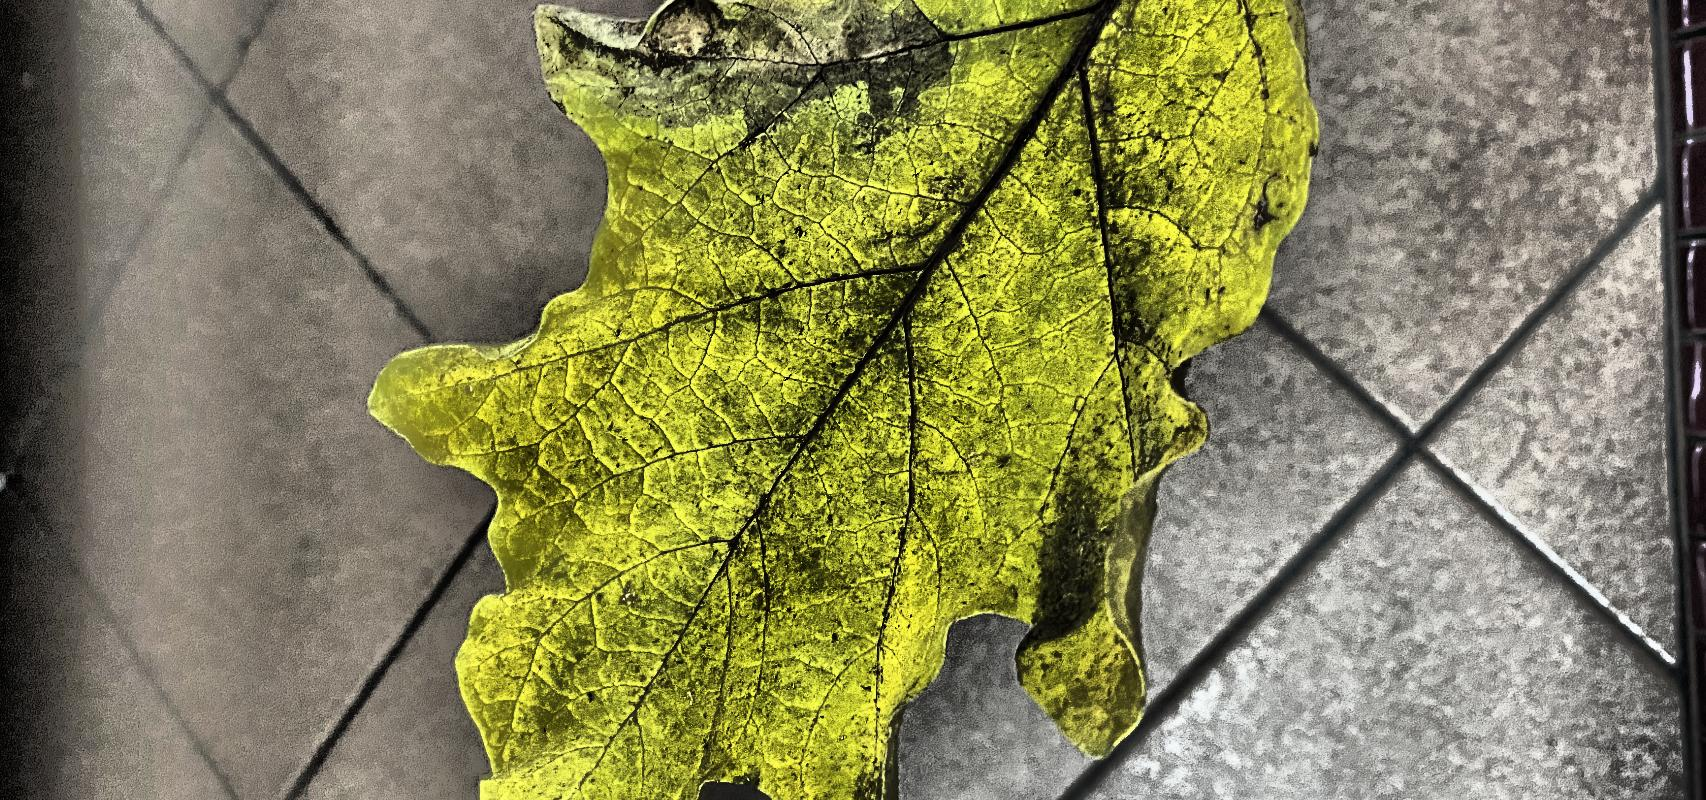Critical Stress: (0, 140, 1229, 800)
